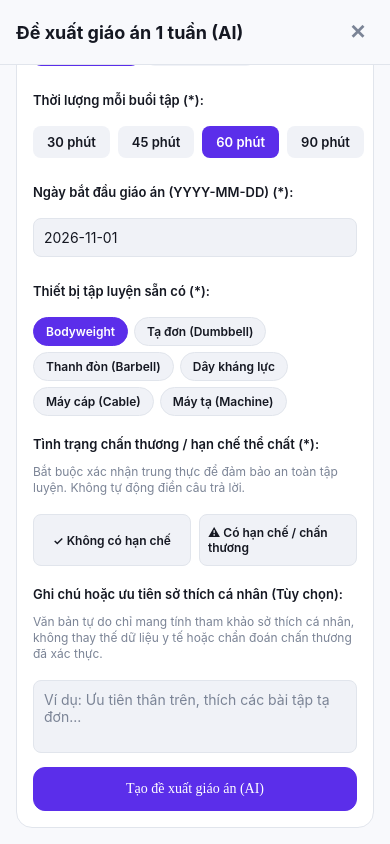
it: AiWorkoutProposalModal › hides edit draft button and disables accept button when student views trainer-managed proposal (HUMAN_COACH)
The image size is (390, 844).
(page scrolled)
Click the button with test id "generate-ai-proposal-button": (195, 789) 33,767 -> 357,811
(page scrolled)
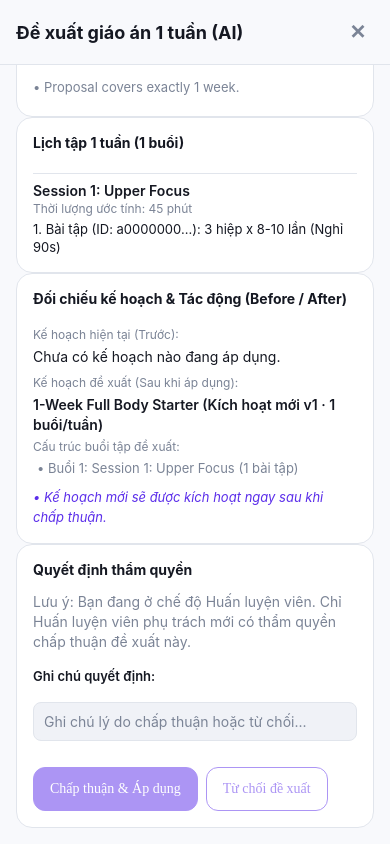
Now the button with test id "accept-ai-proposal-button" is disabled, box 33,767 -> 198,811
Now the button with test id "reject-ai-proposal-button" is disabled, box 206,767 -> 328,811
